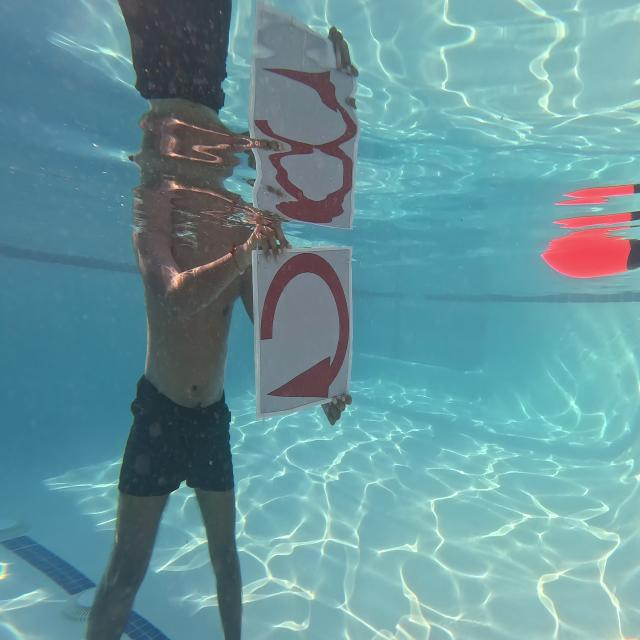red_side: (248, 224, 362, 414)
